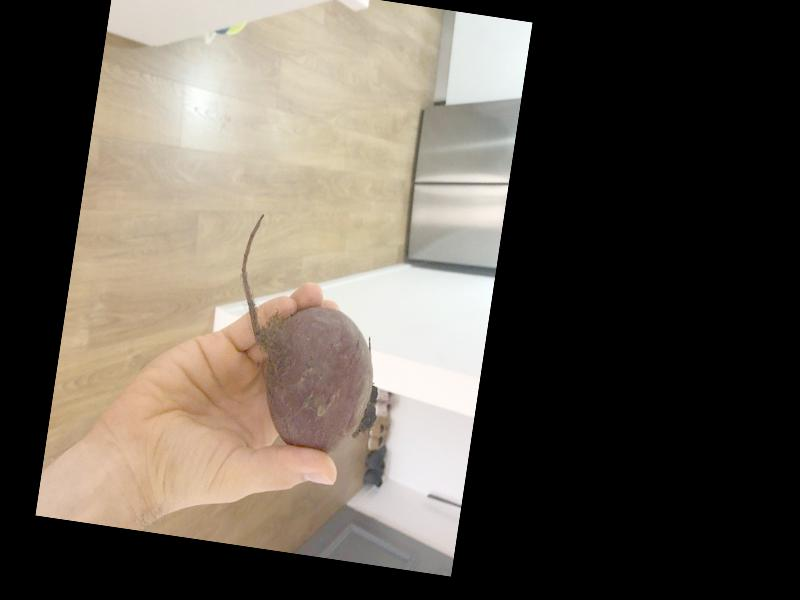Beet: (217, 212, 401, 458)
